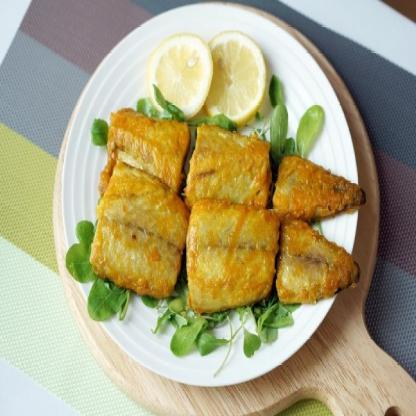Peixe: (66, 132, 374, 322)
